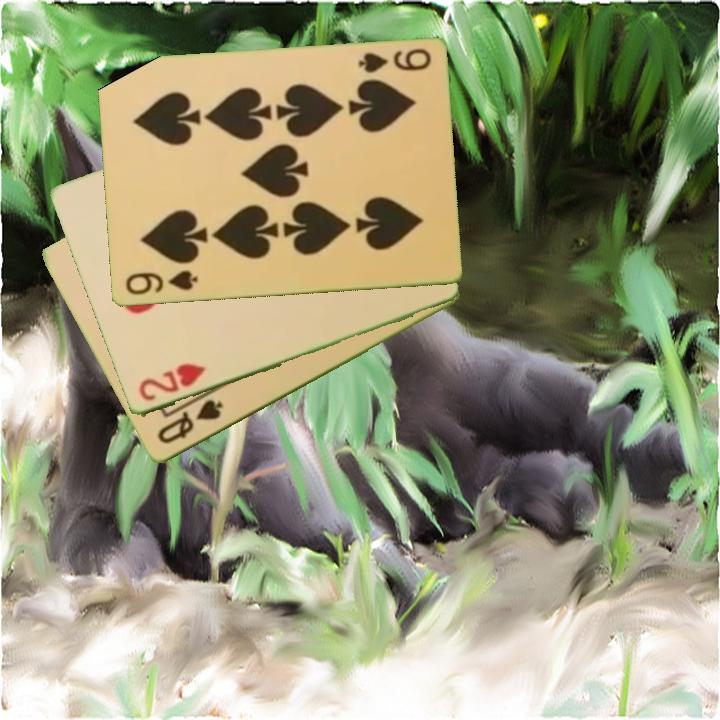2h: (135, 360, 209, 405)
9s: (354, 45, 433, 77), (121, 267, 200, 298)
Qs: (153, 396, 226, 448)
